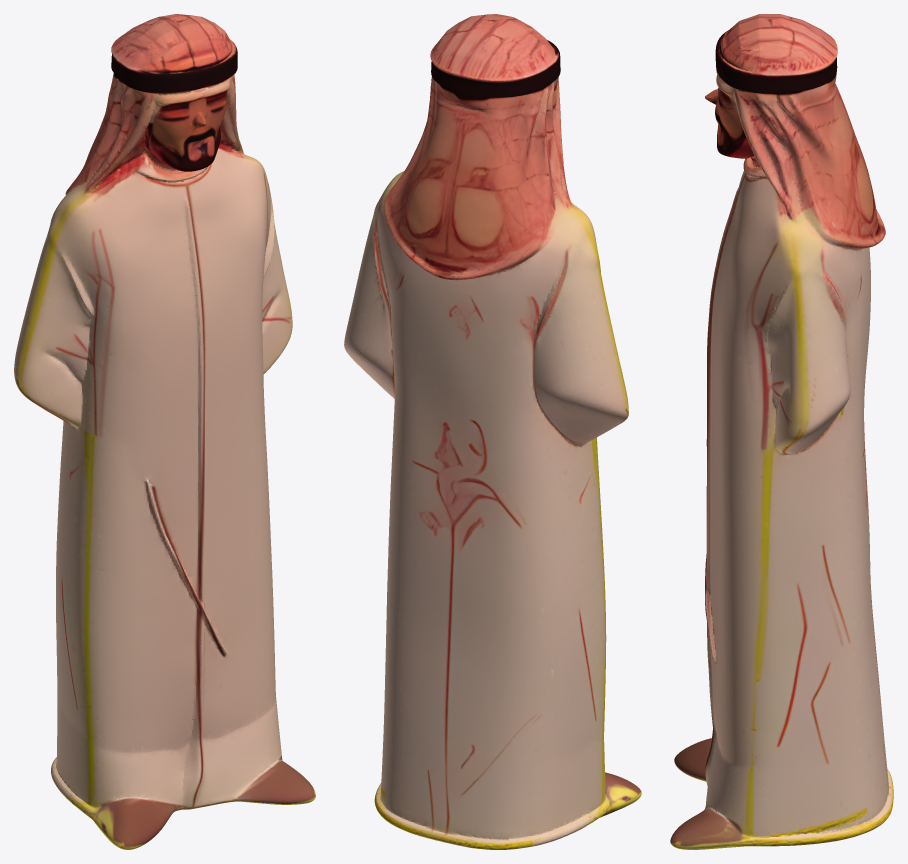
The model's file is base_basic_pbr.fbx.
The picture shows the model from 3 angles, left to right: view 1: azimuth 30°, elevation 25°; view 2: azimuth 150°, elevation 25°; view 3: azimuth 270°, elevation 25°; orthographic projection. The views are drawn at different scales.
Visible parts, largest first — view 1: model; view 2: model; view 3: model.
Part boxes in pixels (x1,y1,x2,y2): model: (14, 14, 315, 849); model: (344, 14, 641, 849); model: (670, 14, 893, 849).
Size of the model in its own units: 70.23 by 190 by 48.41.
Materials: 1 (1 with a texture image).
